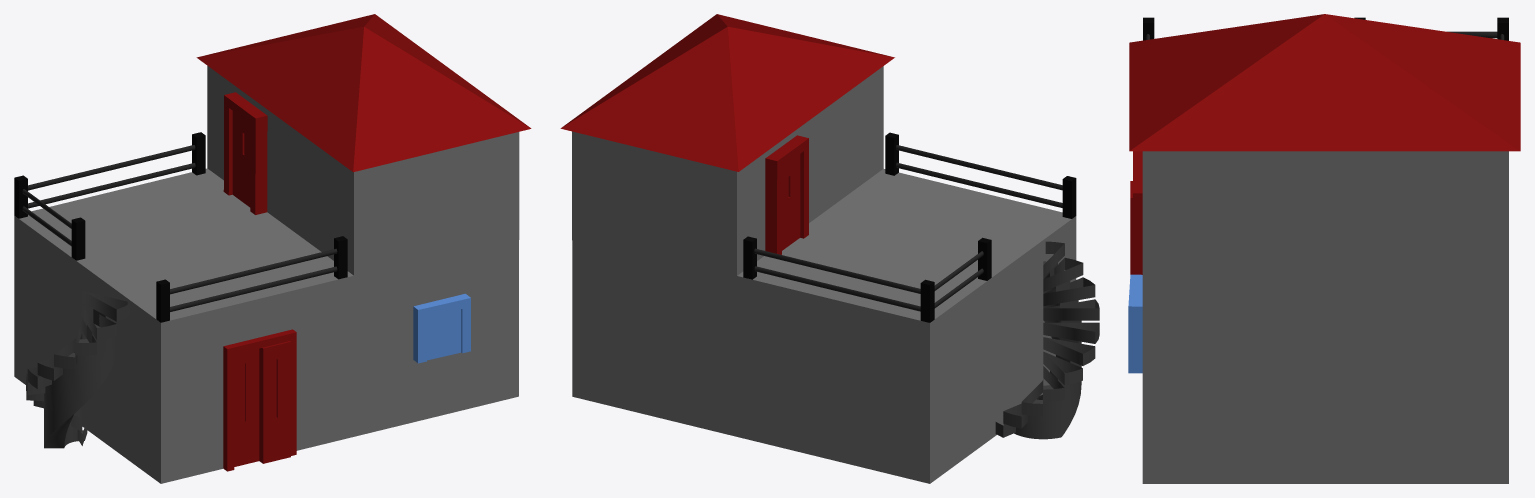
The model's file is house.dae.
3 renders of one model, left to right at view 1: azimuth 30°, elevation 25°; view 2: azimuth 150°, elevation 25°; view 3: azimuth 270°, elevation 25°, orthographic. The views are drawn at different scales.
Parts seen in each view (by area): view 1: Box001, Box002, Pyramid001, SlidingDoor001, SpiralStair001, PivotDoor002, PivotDoor001, Cylinder002, Cylinder001, Cylinder003, Cylinder004, Box003 (+3 smaller); view 2: Box001, Box002, Pyramid001, SpiralStair001, PivotDoor002, Cylinder003, Cylinder004, Cylinder002, Cylinder001, Box004, Box005; view 3: Box001, Box002, Pyramid001, SlidingDoor001, PivotDoor001.
Part boxes in pixels (x1,y1,x2,y2): Box001: (14,168,518,483); Box002: (207,66,519,280); Pyramid001: (196,14,531,172); SlidingDoor001: (223,329,296,471); SpiralStair001: (26,290,129,448); PivotDoor002: (223,92,267,214); PivotDoor001: (413,293,470,363); Cylinder002: (170,248,337,294); Cylinder001: (170,266,337,311); Cylinder003: (28,145,195,190); Cylinder004: (28,163,195,208); Box003: (71,217,85,260); Box001: (572,168,1076,483); Box002: (572,66,883,280); Pyramid001: (560,14,894,171); SpiralStair001: (995,241,1099,439); PivotDoor002: (765,135,808,254); Cylinder003: (754,248,920,293); Cylinder004: (754,266,920,311); Cylinder002: (896,145,1062,190); Cylinder001: (896,162,1062,207); Box004: (920,279,934,322); Box005: (1062,176,1076,218); Box001: (1142,289,1508,483); Box002: (1142,151,1508,288); Pyramid001: (1129,14,1520,151); SlidingDoor001: (1130,151,1142,274); PivotDoor001: (1128,274,1142,373).
Bounding box in the file's own units: 2931 × 2158 × 1826.
